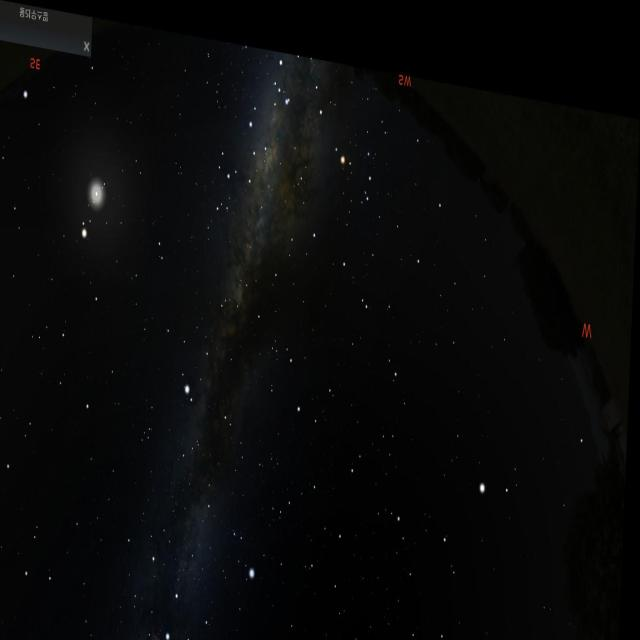aquila: (160, 252, 257, 429)
bootes: (395, 417, 514, 640)
cygnus: (150, 455, 223, 640)
lyra: (222, 505, 268, 577)
moon: (78, 150, 115, 213)
sagittarius: (202, 107, 262, 223)
scorpius: (265, 59, 399, 226)
